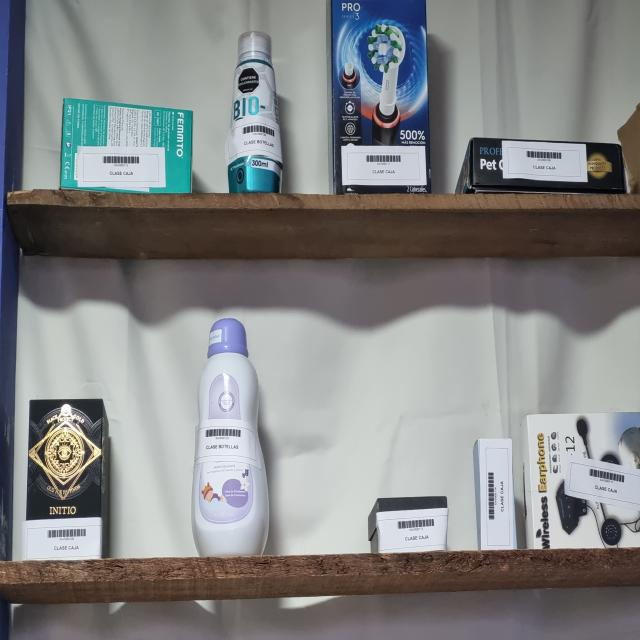botella: (192, 318, 269, 556), (225, 31, 283, 193), (473, 439, 517, 550), (368, 497, 448, 552)
caja: (331, 0, 431, 194), (523, 412, 640, 549), (22, 398, 109, 558), (60, 99, 192, 193), (455, 137, 629, 193)
